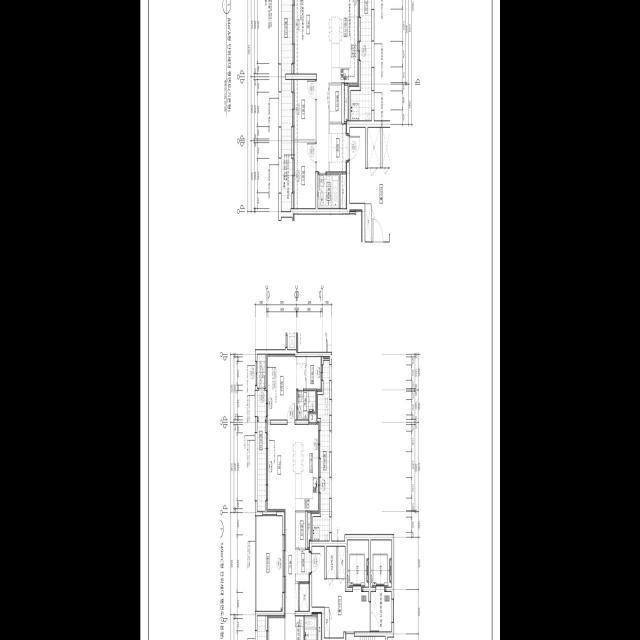background: (140, 0, 500, 640)
space_balconi: (313, 361, 329, 541), (256, 516, 282, 611), (351, 0, 371, 120), (281, 0, 292, 211), (257, 391, 266, 511), (257, 616, 266, 640)
space_bedroom: (267, 355, 305, 420), (293, 143, 315, 209), (293, 80, 315, 139), (267, 616, 284, 640)
space_dressroom: (306, 357, 321, 391)
space_elevator: (347, 540, 368, 592), (371, 540, 391, 592)
space_elevator_hall: (312, 547, 391, 638), (349, 128, 390, 242)
space_front: (329, 124, 348, 172), (295, 550, 310, 582)
space_kitchen: (328, 0, 358, 86), (295, 422, 319, 513)
space_living_room: (267, 424, 298, 640), (293, 0, 328, 172)
space_other: (368, 128, 380, 168), (329, 86, 341, 122), (326, 547, 336, 579), (382, 128, 390, 168), (296, 513, 305, 548), (299, 584, 309, 611), (257, 355, 265, 388), (365, 204, 371, 242), (338, 547, 345, 579), (340, 174, 346, 209), (324, 608, 329, 638), (344, 86, 348, 121), (307, 513, 311, 547), (317, 613, 321, 640), (309, 414, 317, 422)
space_toilet: (318, 174, 339, 208), (297, 391, 315, 420), (304, 616, 316, 640), (295, 616, 303, 640)
